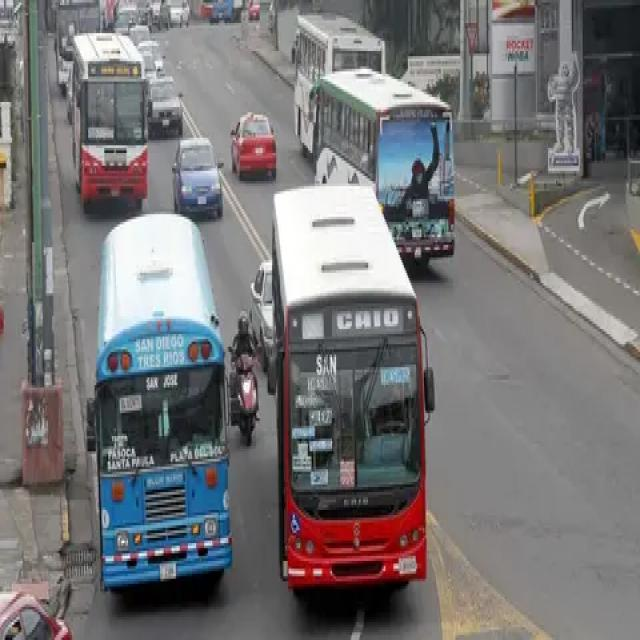BUS: (267, 188, 435, 586), (86, 214, 233, 588), (309, 65, 455, 257), (66, 39, 147, 220)
MOTORCYCLE: (231, 355, 258, 444)
